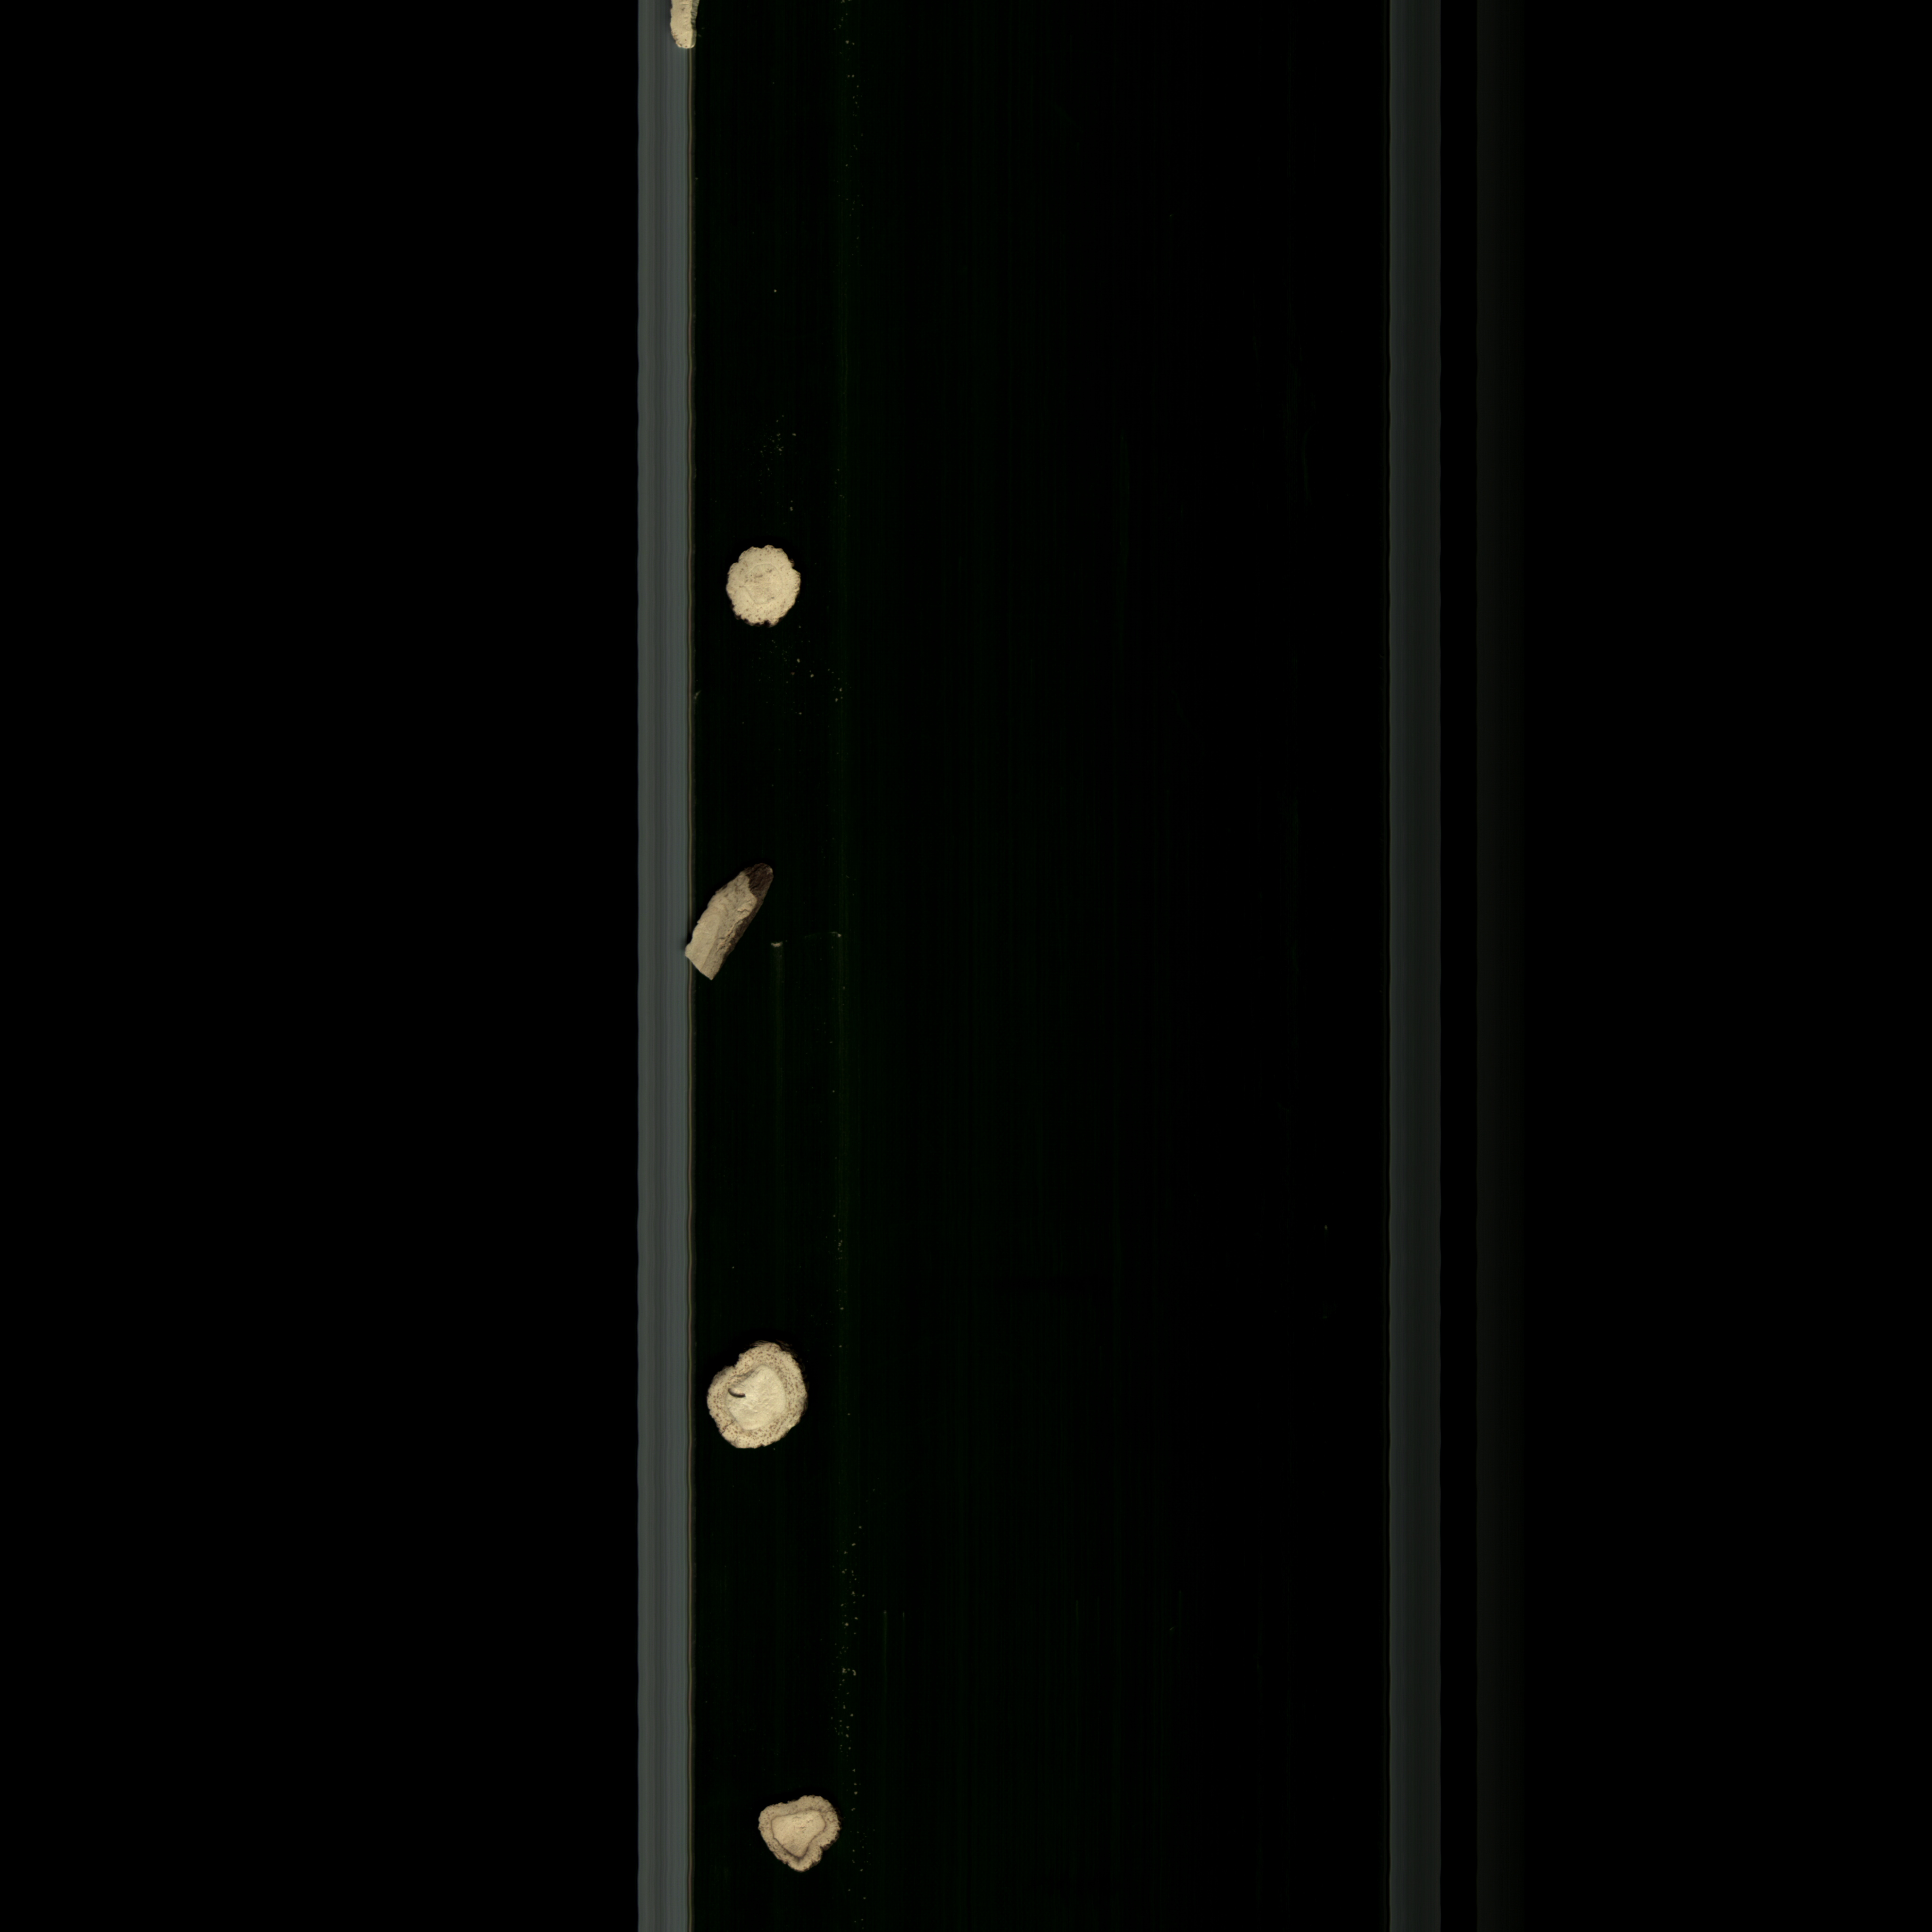debris: (669, 856, 812, 991), (669, 0, 715, 96)
hole: (688, 1325, 832, 1467)
moldy: (740, 1775, 870, 1890)
